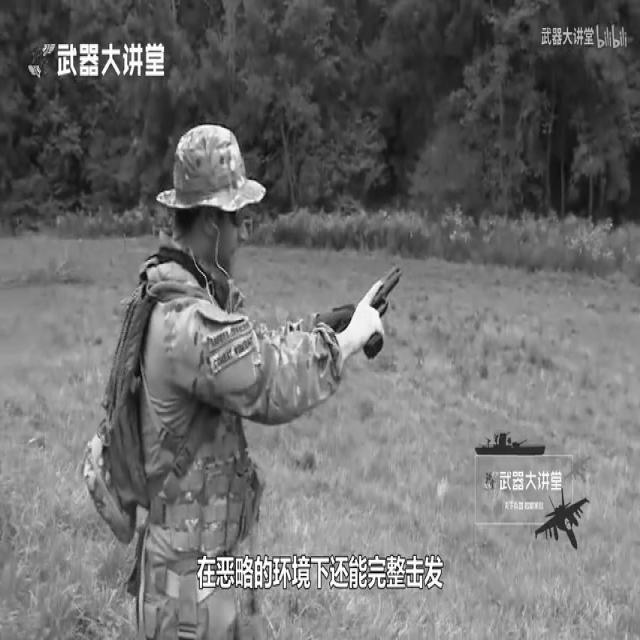Hand-Gun: (355, 255, 409, 376)
